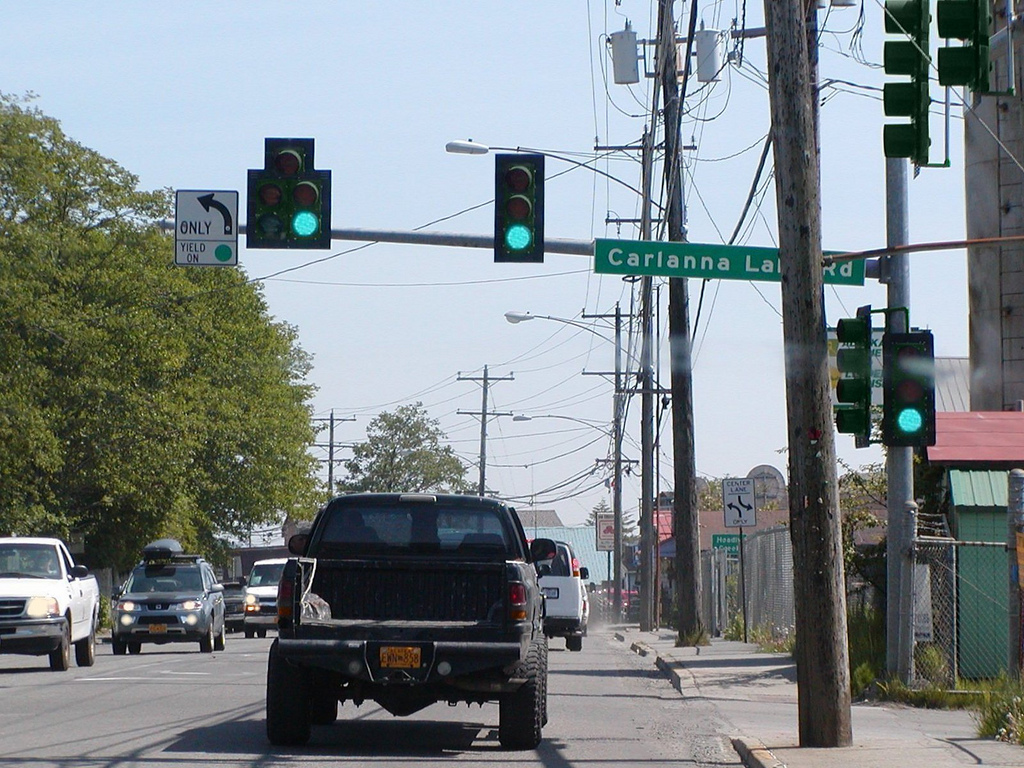traffic_light: (254, 144, 324, 243), (890, 341, 930, 438), (500, 159, 539, 257)
